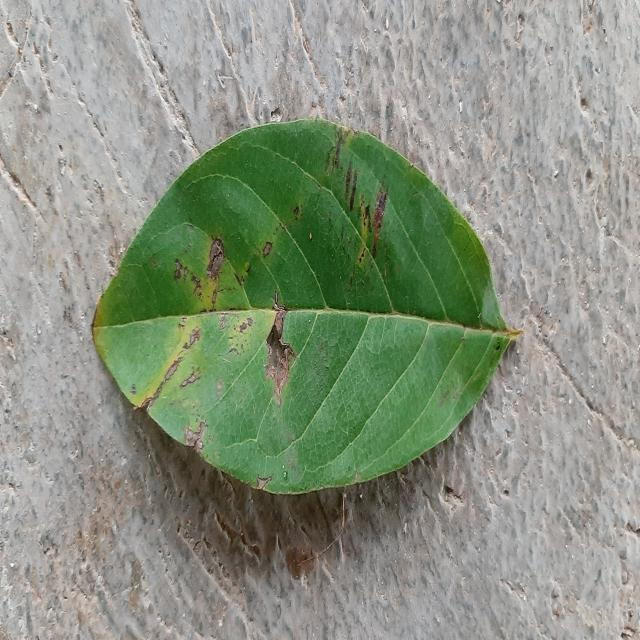leaf spot: (94, 119, 516, 493)
